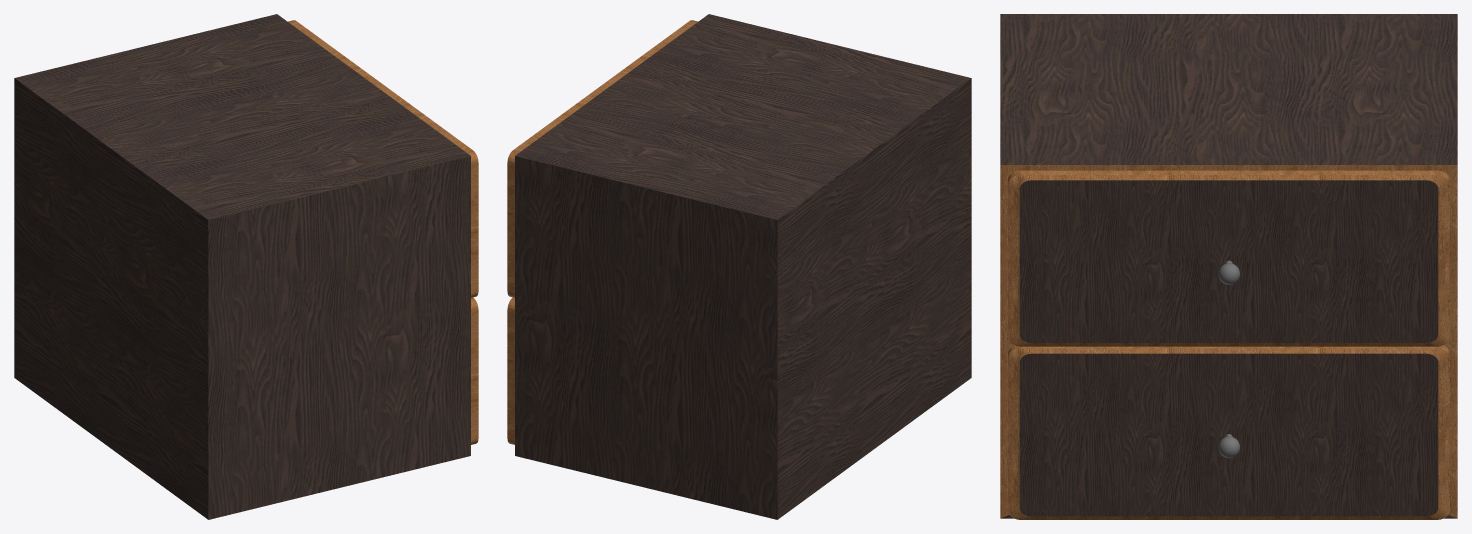
The model's file is nightstand.glb.
3 views of the same model, side by side, from view 1: azimuth 30°, elevation 25°; view 2: azimuth 150°, elevation 25°; view 3: azimuth 270°, elevation 25° (orthographic). The views are drawn at different scales.
Visible parts, largest first — view 1: Sphere.001, Cube.002, Cube.001; view 2: Sphere.001, Cube.002, Cube.001; view 3: Cube.002, Sphere.001, Cube.001.
Boxes of the visible parts, x1,y1,x2,y2 form: Sphere.001: [14, 14, 470, 519]; Cube.002: [288, 20, 478, 297]; Cube.001: [471, 297, 478, 444]; Sphere.001: [515, 14, 971, 519]; Cube.002: [507, 20, 697, 297]; Cube.001: [507, 297, 514, 444]; Cube.002: [1008, 170, 1449, 346]; Sphere.001: [1000, 14, 1457, 518]; Cube.001: [1008, 345, 1449, 519].
Size of the model in its own units: 3.58 by 3.42 by 4.01.
Materials: 4 (2 with a texture image).
